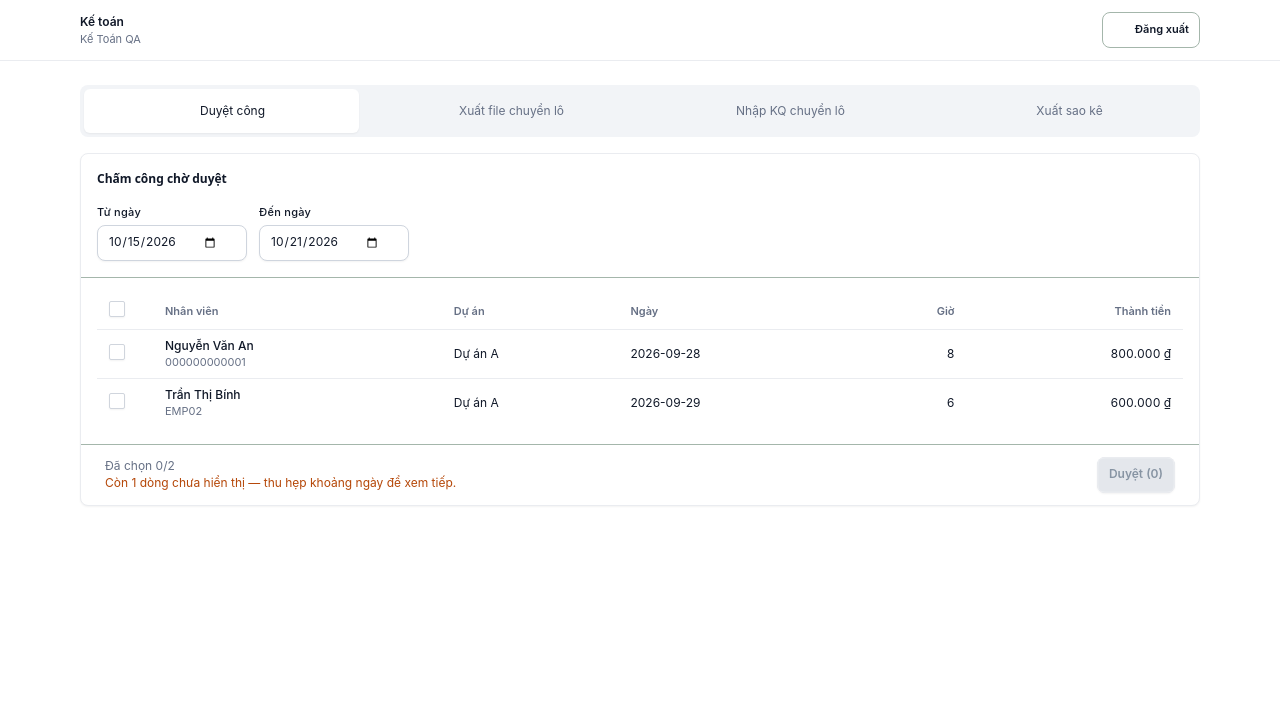
Test: Accountant console › clears stale selections when the week changes and warns about hidden rows
Click the checkbox named "Chọn tất cả" at (117, 309), box [109,301,125,317]
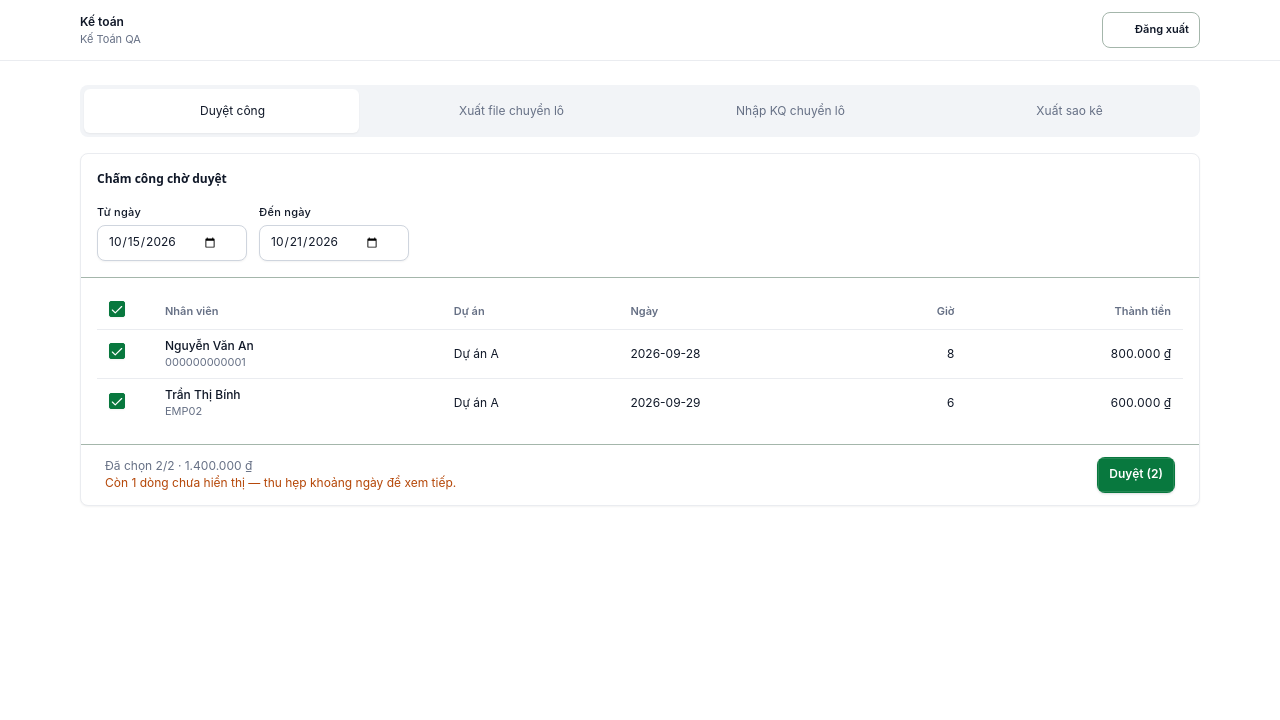
expect the text "Còn 1 dòng chưa hiển thị — thu hẹp khoảng ngày để xem tiếp." is shown: met, box [105,475,456,492]
expect the text "Đã chọn 2/2 · 1.400.000 ₫" is shown: met, box [105,458,252,473]
Type "2026-09-01" into the date field labelled "Từ ngày" at (172, 243), box [97,225,247,261]
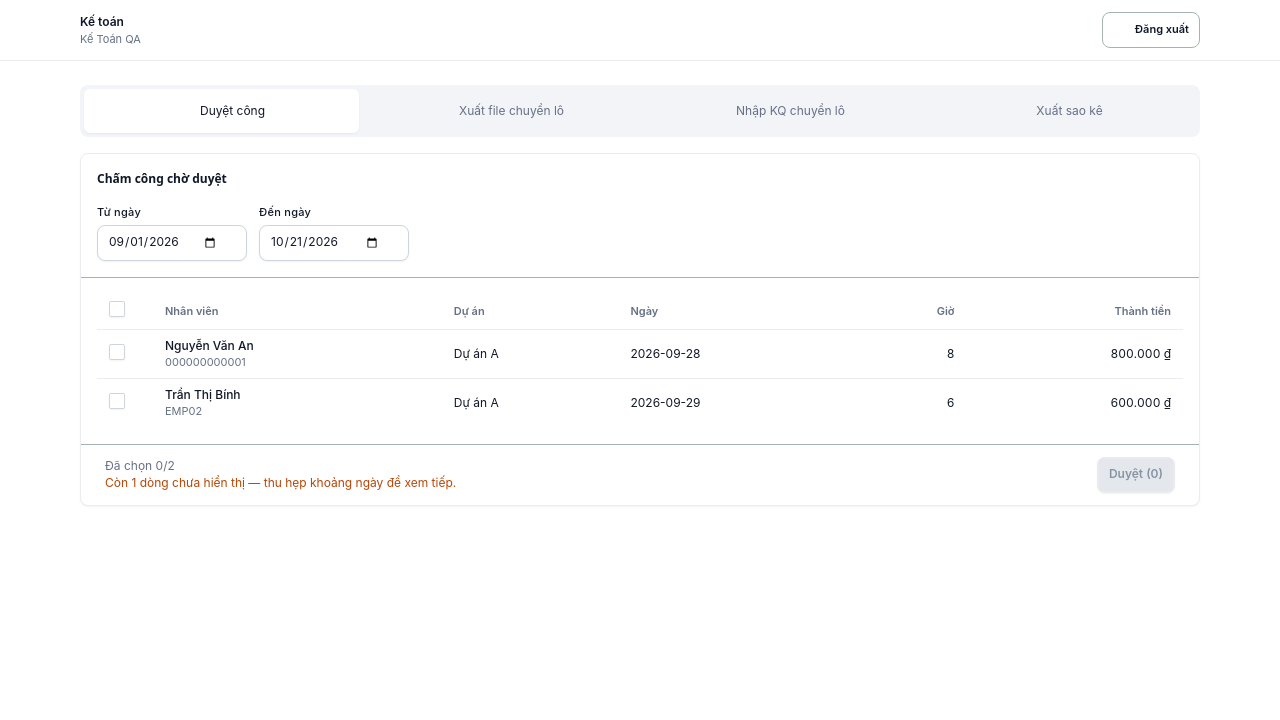
expect the text "Đã chọn 0/2" is shown: met, box [105,458,175,473]
